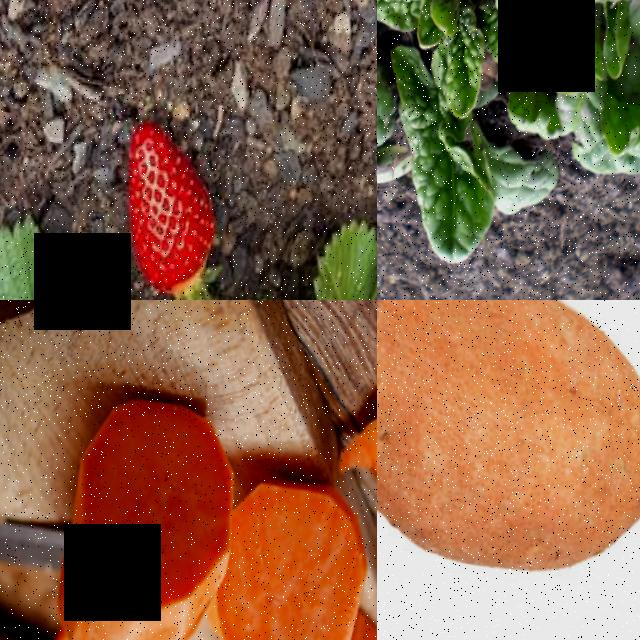spinach: (386, 141, 496, 272)
strawberry: (96, 119, 233, 300)
sweet potato: (377, 300, 640, 631)
